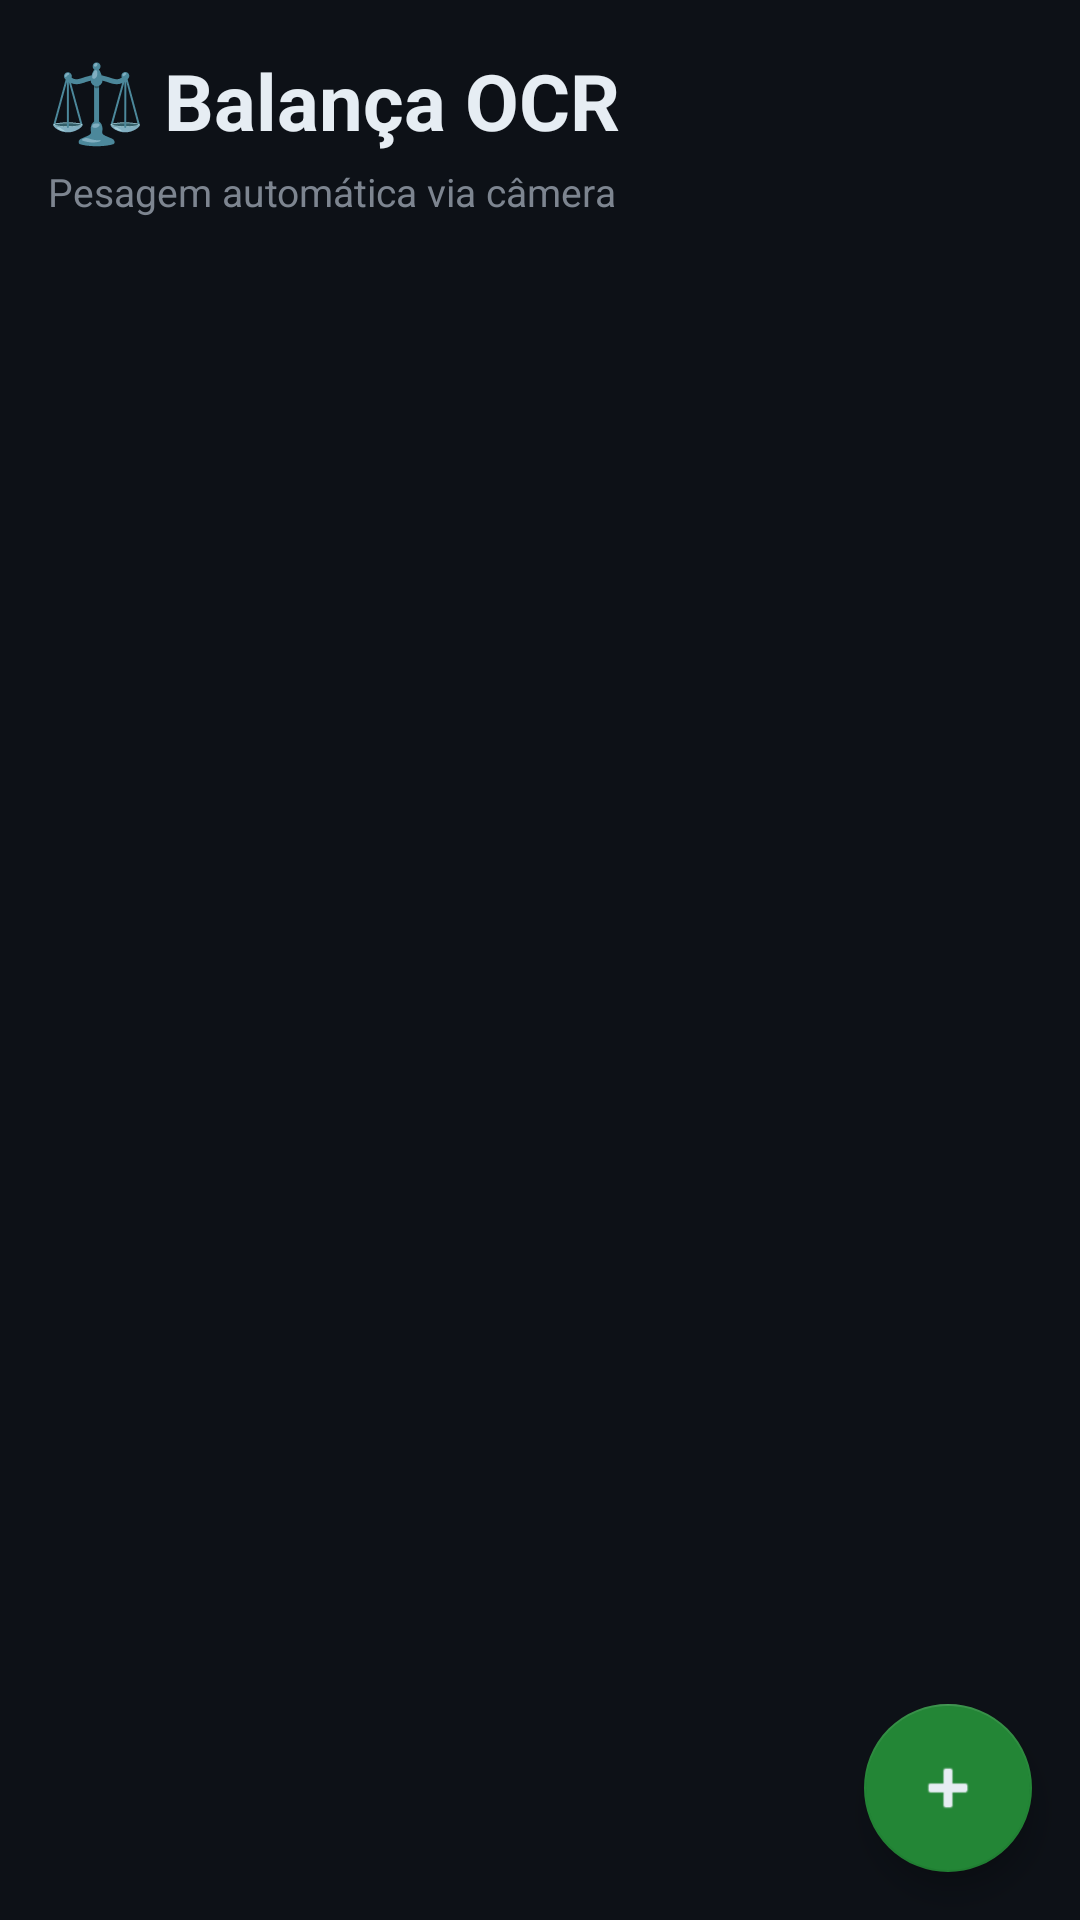

Locate icon controls on the screen. Image size 1080x1920, boxes as [left=x1, top=y1, right=x2, bottom=y2].
Nova sessão: [left=864, top=1704, right=1032, bottom=1872]
